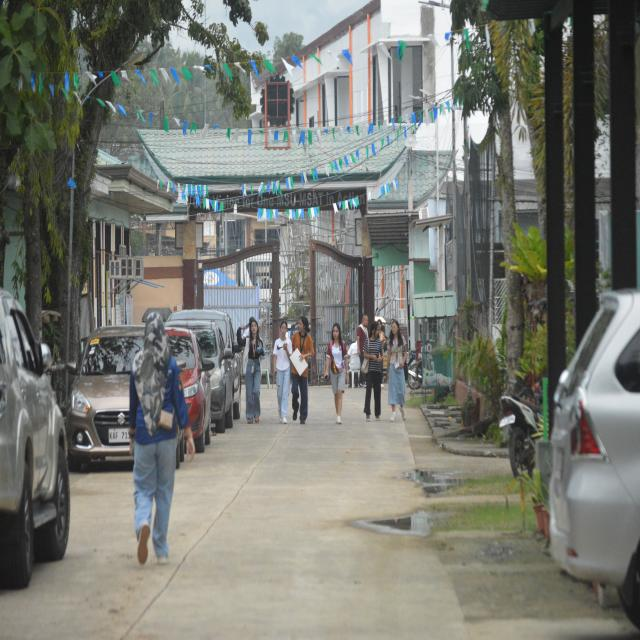person: (130, 313, 194, 564), (237, 317, 265, 423), (325, 323, 348, 424), (273, 320, 292, 424), (388, 320, 407, 421), (364, 323, 382, 421), (292, 368, 308, 424), (348, 342, 360, 388), (357, 315, 368, 365)
